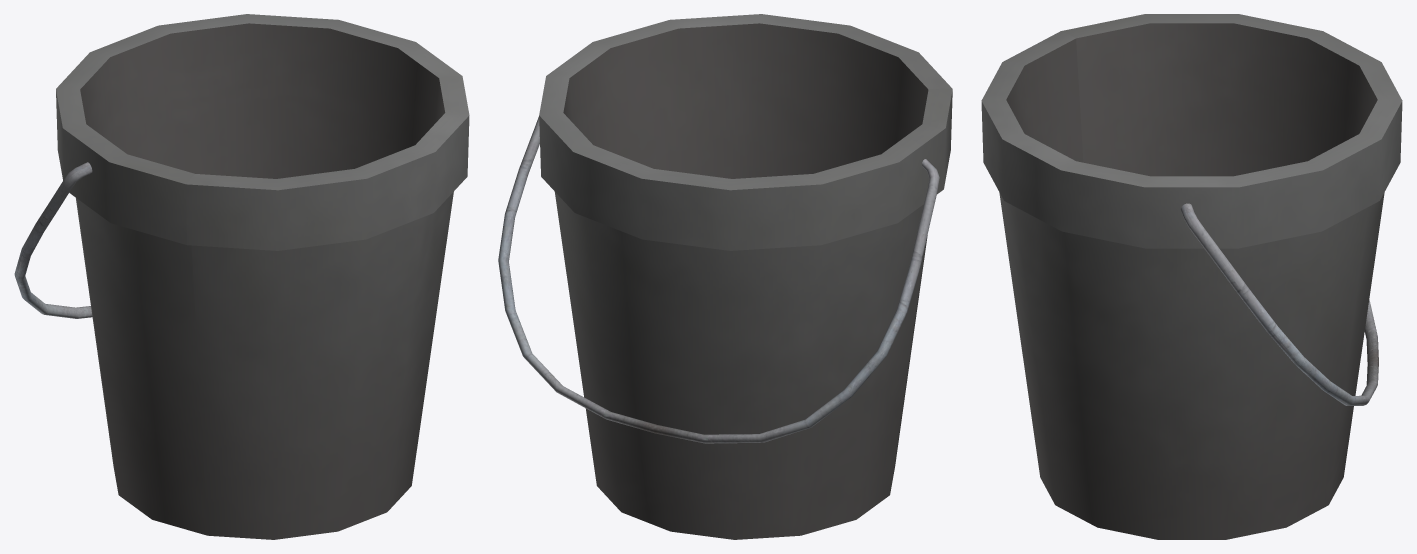
File: Bucket.FBX
The picture shows the model from 3 angles, left to right: view 1: azimuth 30°, elevation 25°; view 2: azimuth 150°, elevation 25°; view 3: azimuth 270°, elevation 25°; orthographic projection.
Parts seen in each view (by area): view 1: Cylinder001, Torus001; view 2: Cylinder001, Torus001; view 3: Cylinder001, Torus001.
Boxes of the visible parts, left/top/right/bottom form: Cylinder001: left=56, top=14, right=469, bottom=539; Torus001: left=14, top=162, right=92, bottom=318; Cylinder001: left=539, top=14, right=952, bottom=539; Torus001: left=498, top=116, right=939, bottom=443; Cylinder001: left=981, top=14, right=1402, bottom=539; Torus001: left=1180, top=203, right=1378, bottom=405.
Bounding box in the file's own units: 46.95 × 41.98 × 42.41.
1 material, 1 textured.
